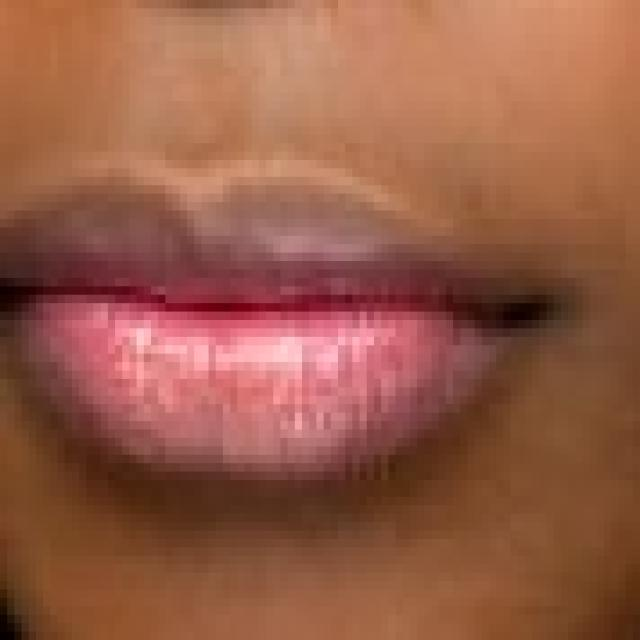closed-mouth: (0, 161, 547, 488)
